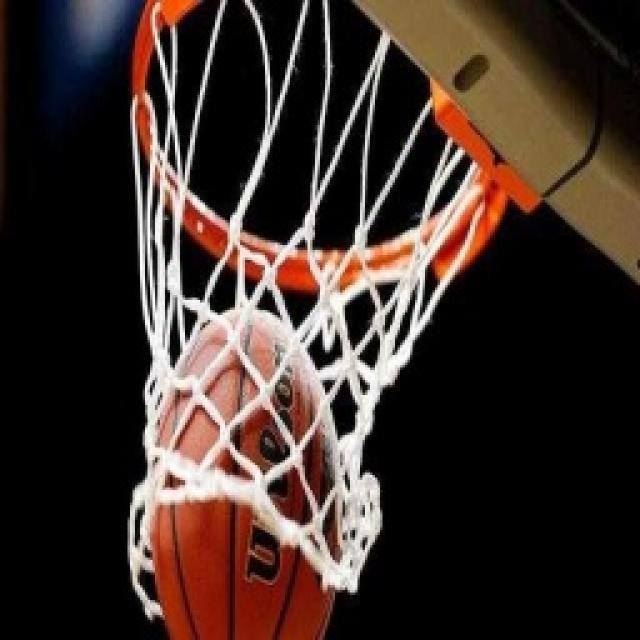rim: (144, 304, 351, 640)
